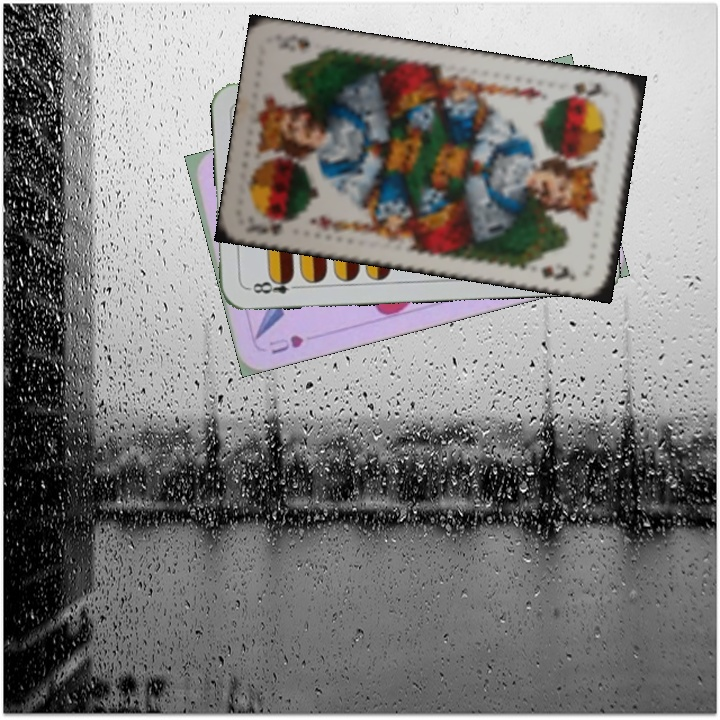E8: (244, 273, 304, 296)
HU: (264, 330, 306, 357)
SK: (560, 78, 612, 103), (258, 214, 299, 238)
